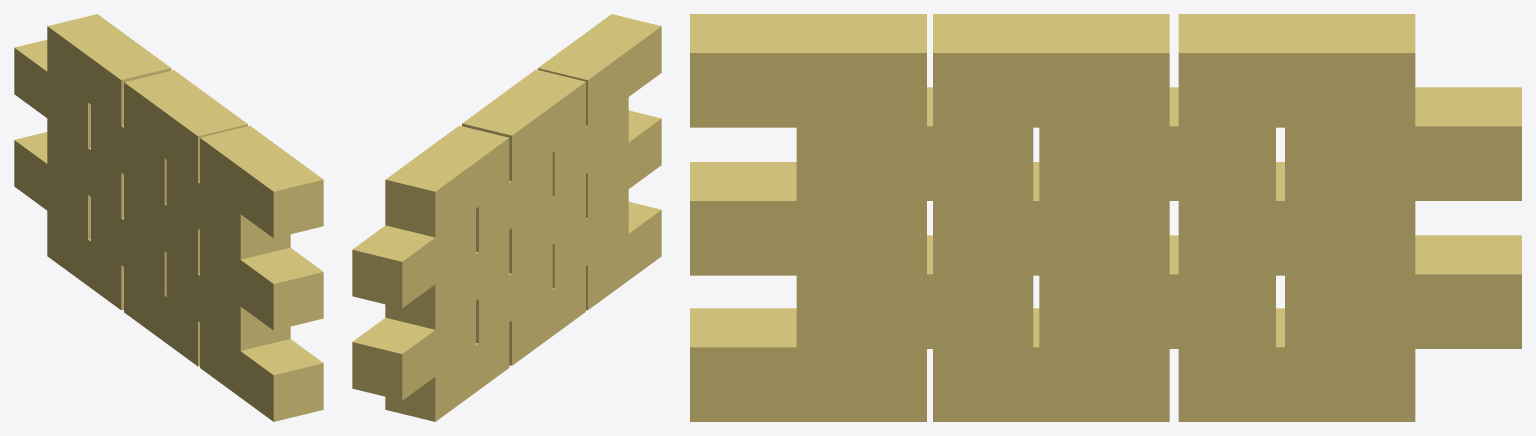
Rendered from Brickwall.glb.
3 views of the same model, side by side, from view 1: azimuth 30°, elevation 25°; view 2: azimuth 150°, elevation 25°; view 3: azimuth 270°, elevation 25° (orthographic). The views are drawn at different scales.
Visible parts, largest first — view 1: Brickwall; view 2: Brickwall; view 3: Brickwall.
Part boxes in pixels (bbox=[...]): Brickwall: bbox=[14, 14, 323, 421]; Brickwall: bbox=[352, 14, 661, 421]; Brickwall: bbox=[690, 14, 1521, 421].
Bounding box in the file's own units: 0.2493 × 1.1 × 2.24.
Materials: 1 (1 with a texture image).
